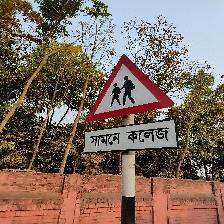College-in-front: (68, 48, 201, 159)
